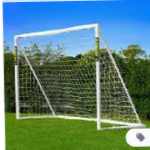goals: (10, 21, 145, 129)
